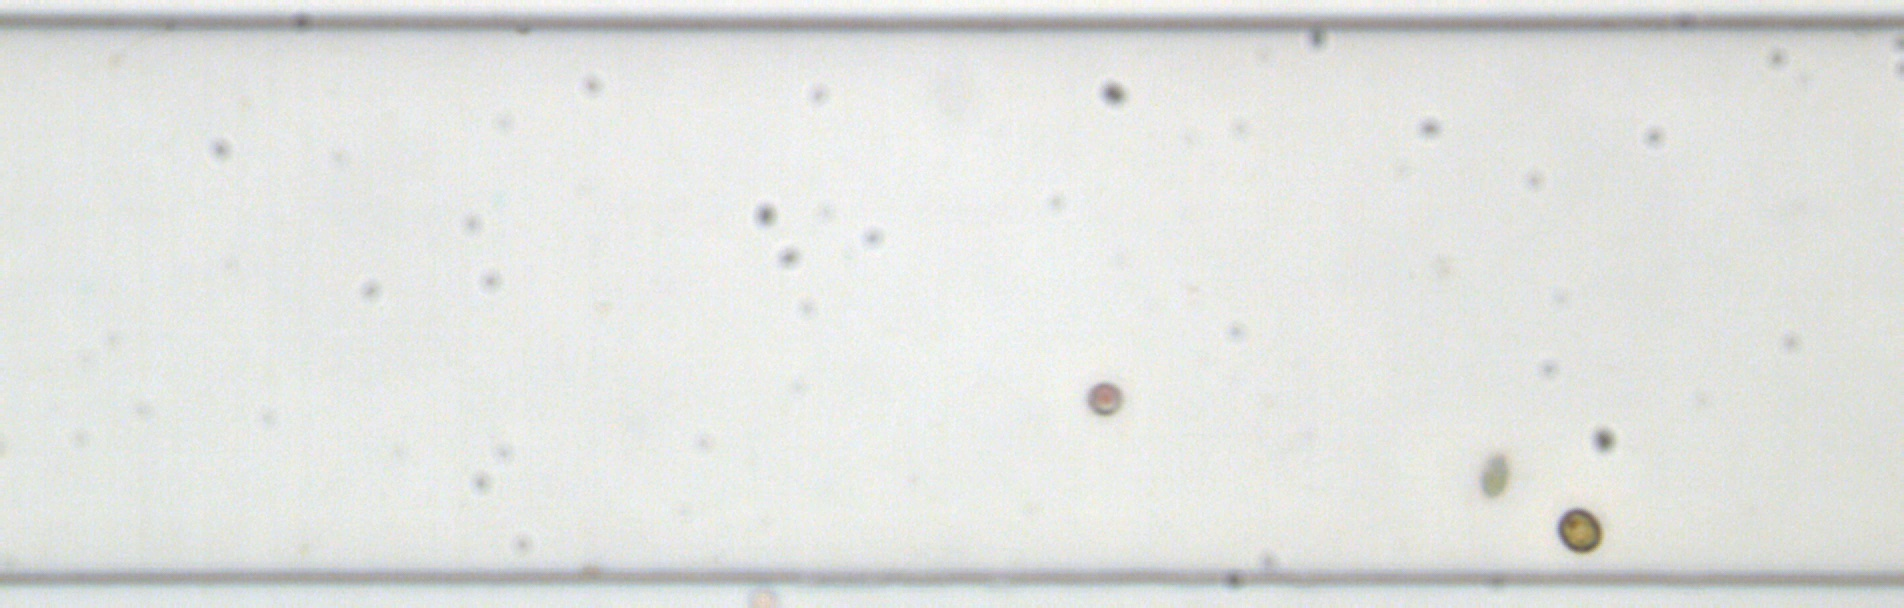Dunaliella salina: (1478, 451, 1512, 500)
Effrenium: (1552, 504, 1606, 557)
Porphyridium: (1086, 379, 1124, 417)
